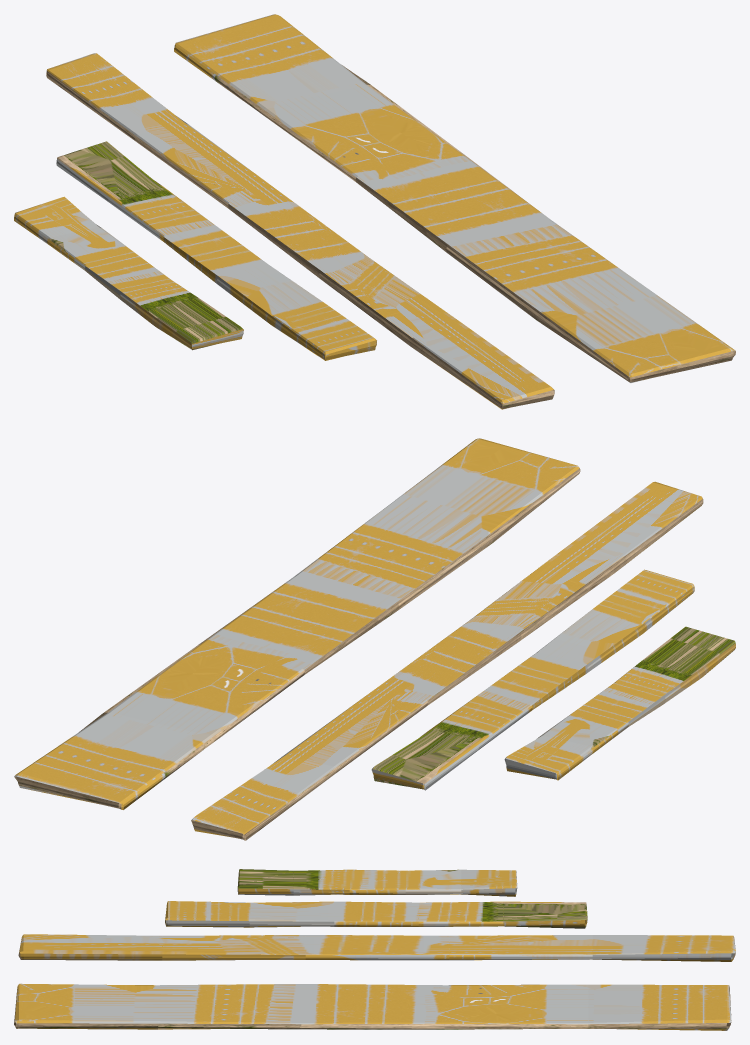
File: Wooden Planks.fbx
The picture shows the model from 3 angles, top to bottom: view 1: azimuth 30°, elevation 25°; view 2: azimuth 150°, elevation 25°; view 3: azimuth 270°, elevation 25°; orthographic projection. The views are drawn at different scales.
Parts seen in each view (by area): view 1: Plank 1, Plank 3.001, Plank 2, Plank 3; view 2: Plank 1, Plank 3.001, Plank 2, Plank 3; view 3: Plank 1, Plank 3.001, Plank 2, Plank 3.
Part boxes in pixels (left/top/right/bottom): Plank 1: left=174, top=14, right=735, bottom=382; Plank 3.001: left=46, top=53, right=554, bottom=409; Plank 2: left=56, top=141, right=376, bottom=360; Plank 3: left=14, top=196, right=243, bottom=350; Plank 1: left=14, top=438, right=580, bottom=809; Plank 3.001: left=191, top=481, right=703, bottom=840; Plank 2: left=371, top=569, right=694, bottom=790; Plank 3: left=504, top=626, right=735, bottom=780; Plank 1: left=14, top=983, right=731, bottom=1030; Plank 3.001: left=18, top=934, right=735, bottom=961; Plank 2: left=165, top=901, right=587, bottom=928; Plank 3: left=237, top=869, right=517, bottom=896.
Size of the model in its own units: 1794 by 78.08 by 3552.
